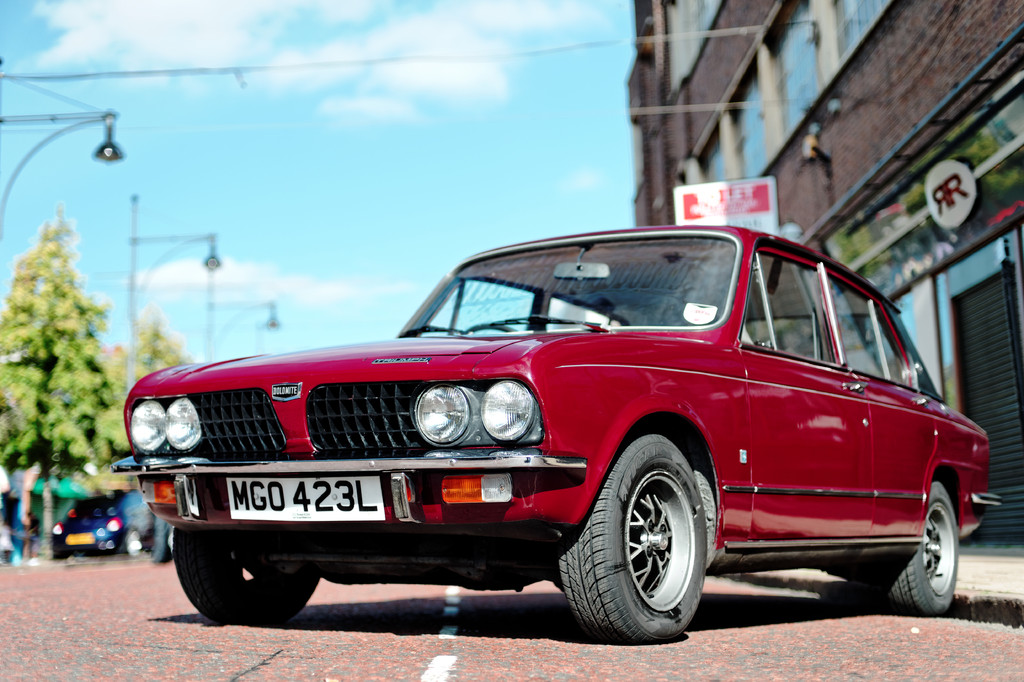cars: (109, 219, 1007, 645)
